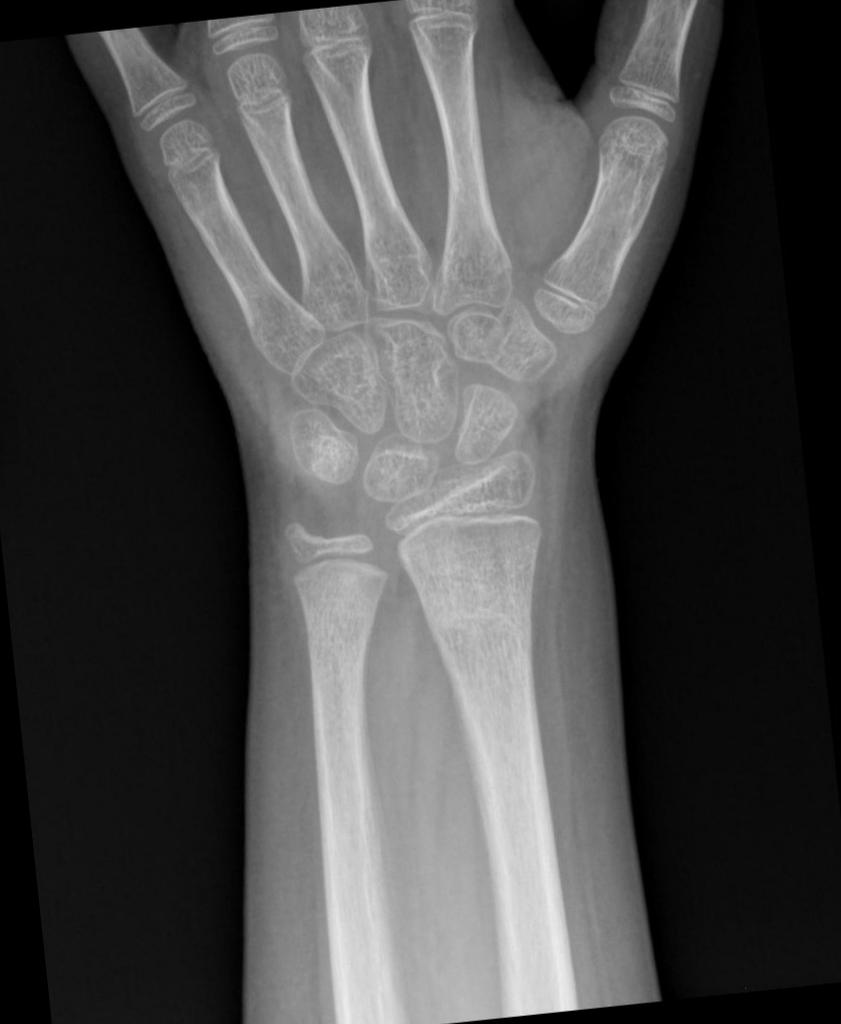line: (424, 568, 486, 588)
